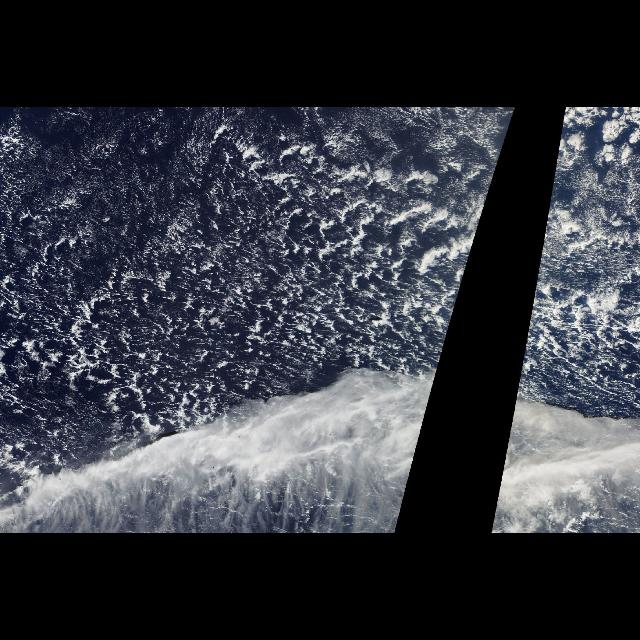Gravel: (0, 112, 514, 430), (512, 120, 632, 414)
Sugar: (8, 121, 174, 249)
